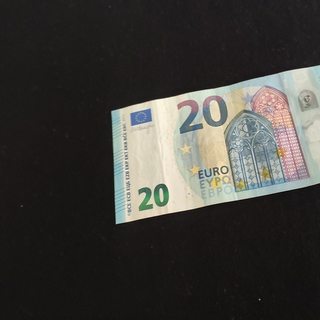20EUROFront: (109, 63, 320, 225)
